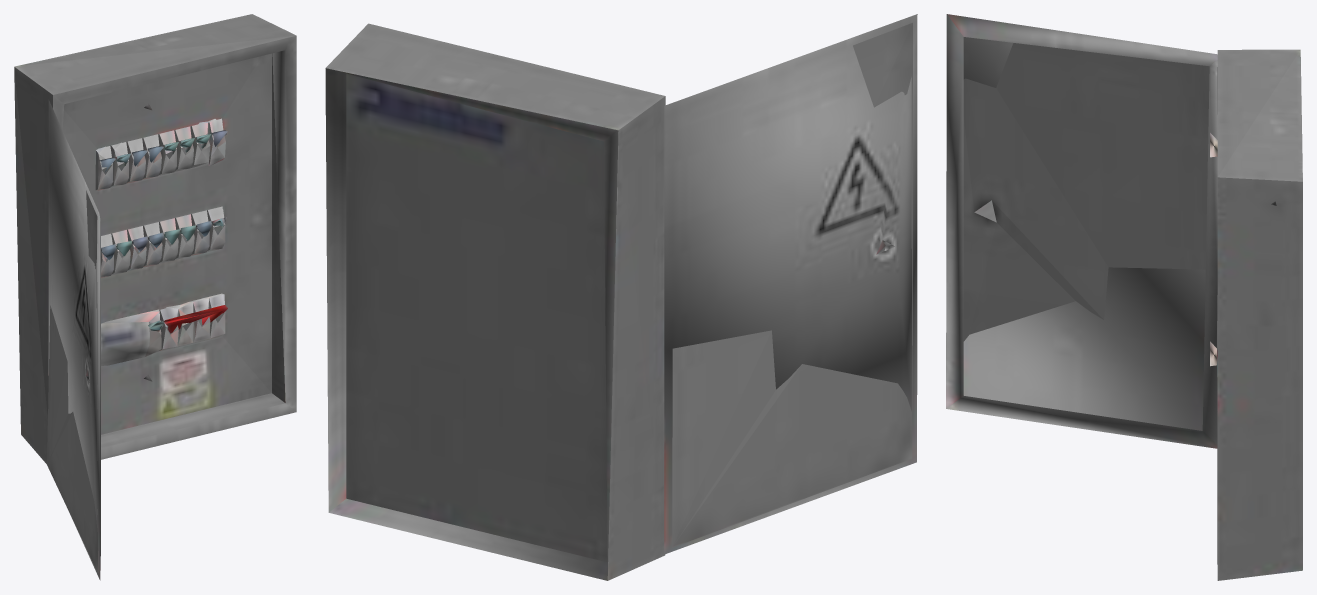
File: power_box_01.glb
The picture shows the model from 3 angles, left to right: view 1: azimuth 30°, elevation 25°; view 2: azimuth 150°, elevation 25°; view 3: azimuth 270°, elevation 25°; orthographic projection. The views are drawn at different scales.
Parts seen in each view (by area): view 1: power_box_01; view 2: power_box_01; view 3: power_box_01.
Part boxes in pixels (x1,y1,x2,y2): power_box_01: (14, 14, 296, 580); power_box_01: (325, 14, 917, 580); power_box_01: (946, 14, 1302, 580).
Size of the model in its own units: 0.4562 by 0.5025 by 0.4026.
1 material, 1 textured.
